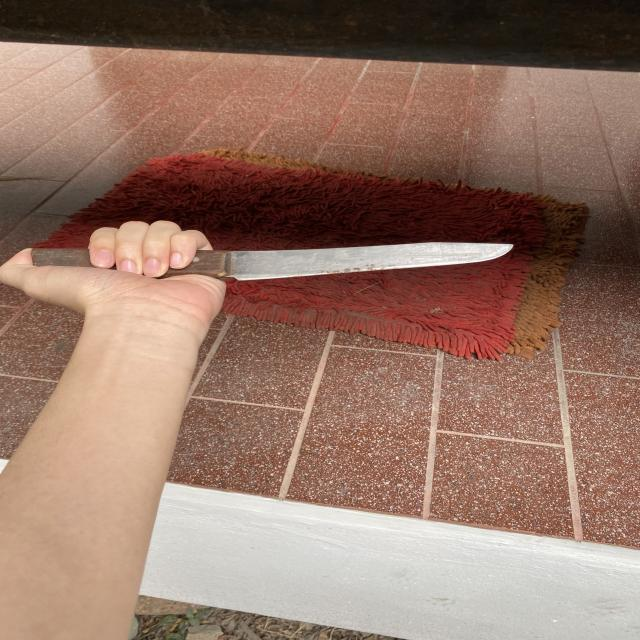faca: (0, 216, 524, 323)
